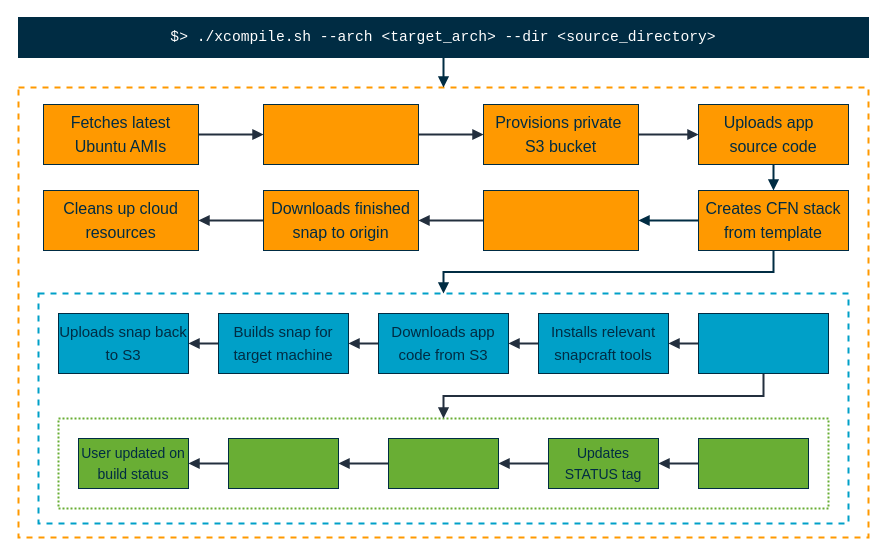
Some shapes in this 886 by 556 pixel diagram are drawn without their labels. The box of each missing label's shape, as (x1, y1, x2, y2) in pixels:
EC2 User Data kicks off build: (698, 312, 828, 374)
Retrieves Instance ID: (698, 438, 808, 488)
Status received to shell script: (228, 438, 338, 488)
Streams live EC2 console output: (482, 190, 638, 250)
Tag polled by shell script: (388, 438, 498, 488)
User selects build environment: (262, 104, 418, 164)
